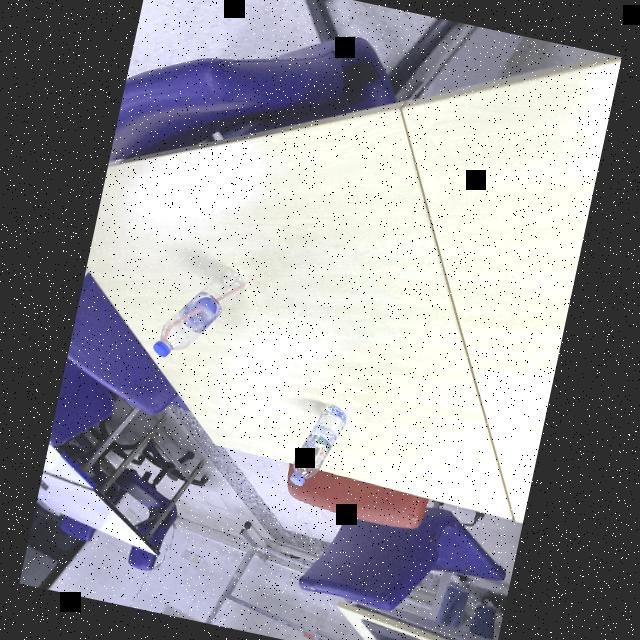plastic_bottle: (150, 254, 250, 372), (286, 395, 352, 494)
